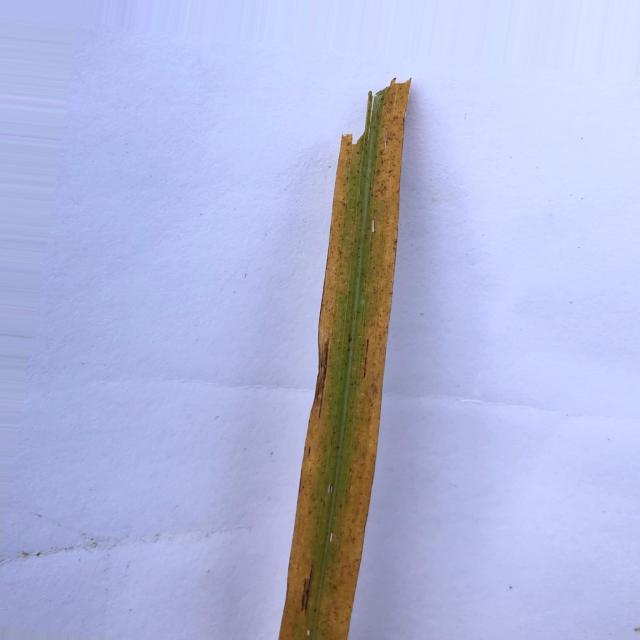Rice Tungro: (278, 80, 410, 640)
